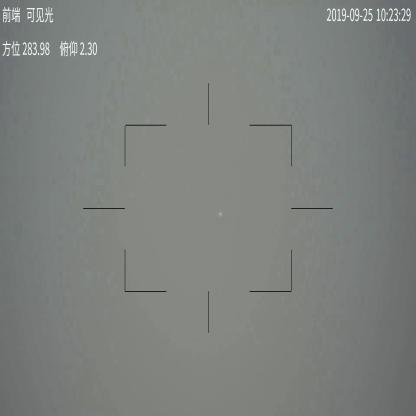uav: (218, 211, 223, 217)
